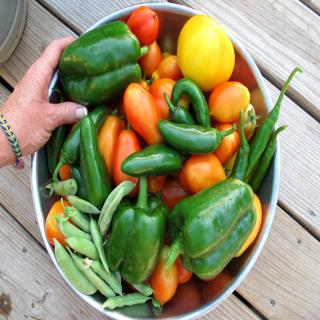tomato: (122, 80, 163, 146), (178, 152, 227, 196), (113, 128, 141, 200), (234, 192, 262, 263), (43, 199, 82, 247), (208, 80, 250, 124), (150, 243, 176, 307), (98, 115, 124, 176), (127, 5, 161, 50), (149, 55, 183, 83), (59, 122, 73, 181), (178, 253, 194, 285)
